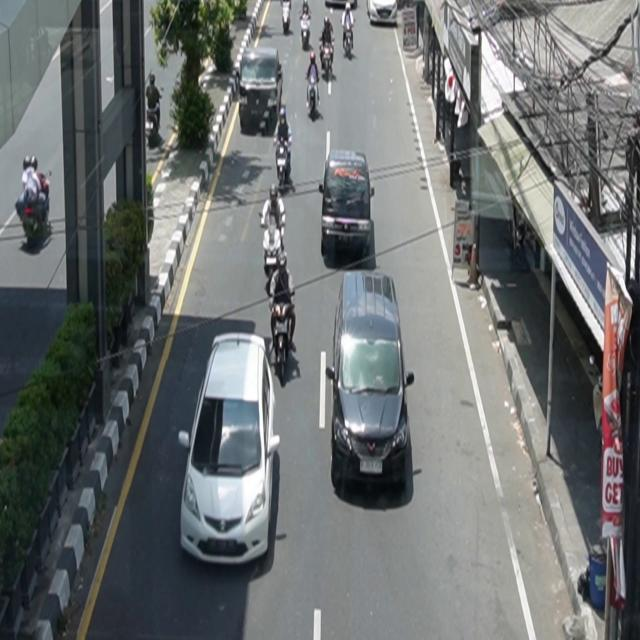car: (179, 333, 281, 567), (327, 270, 415, 481), (320, 149, 375, 259), (239, 47, 284, 137), (366, 1, 398, 26)
